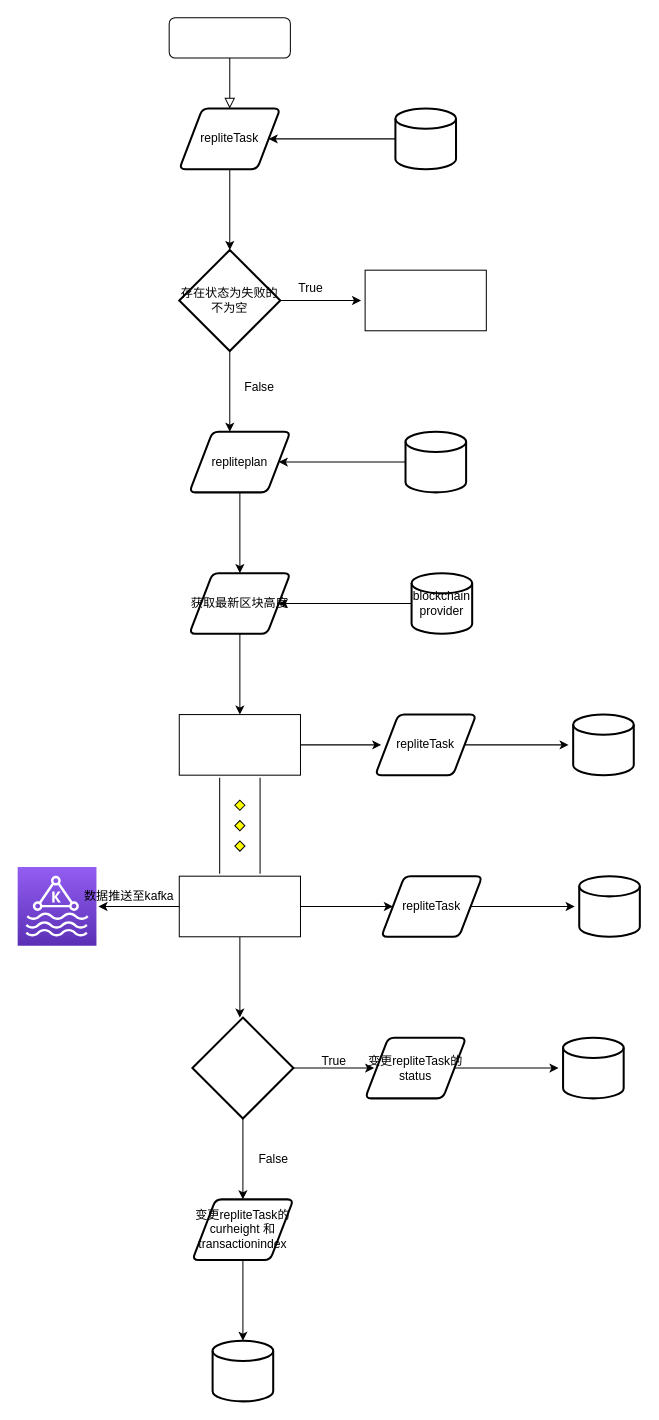
Some shapes in this 659 by 1420 pixel diagram are drawn without their labels. The shapes that lost their labels are listed below. From the top down, each one's box as (x1, y1, x2, y2) in pixels, then its label:
(168, 17, 290, 58): 爬虫程序启动
(364, 269, 486, 331): 根据curheight和curtransactionindex重新爬取
(178, 714, 300, 775): 根据repliteplan的blockheight和blockchain provider的最新区块高度设置新的repliteTask
(178, 875, 300, 937): 执行爬虫逻辑,异步回写当前爬虫状态到repliteStatus
(191, 1016, 294, 1119): 程序正常执行完毕
